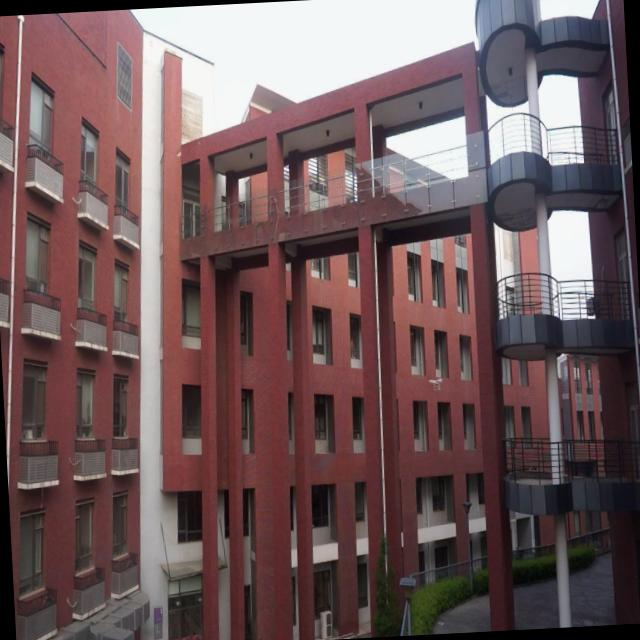drone: (426, 372, 446, 393)
